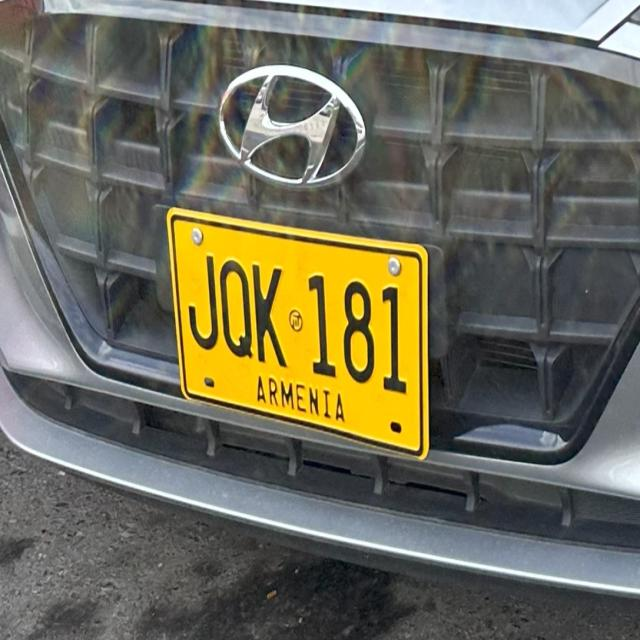number plate: (167, 208, 427, 455)
